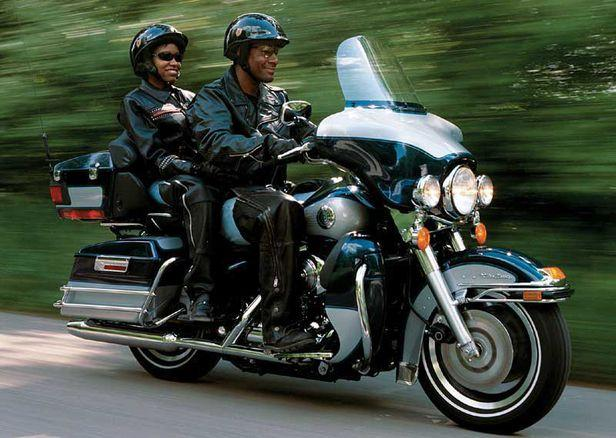helmet: (116, 13, 201, 91), (212, 12, 292, 88)
